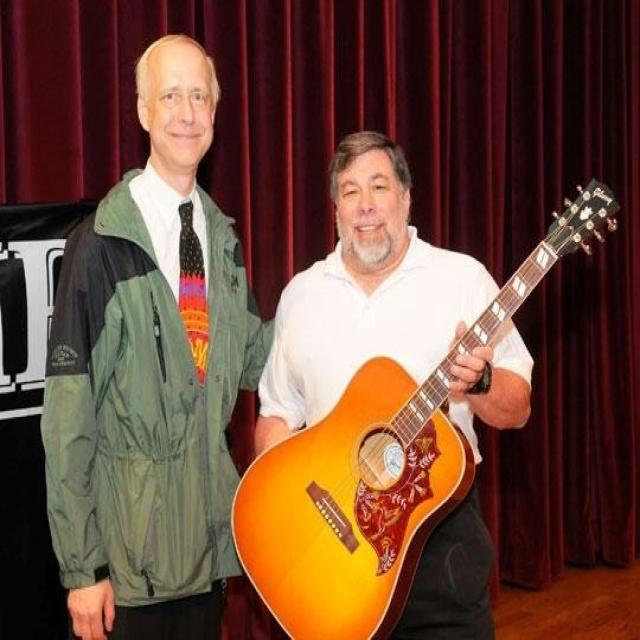guitar: (228, 175, 626, 638)
